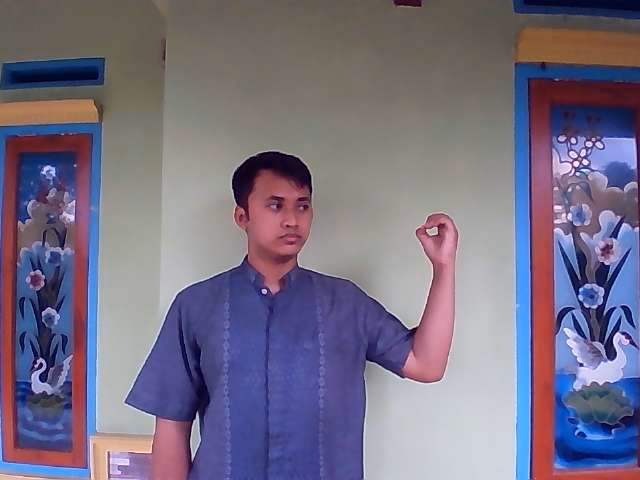O: (414, 211, 459, 264)
